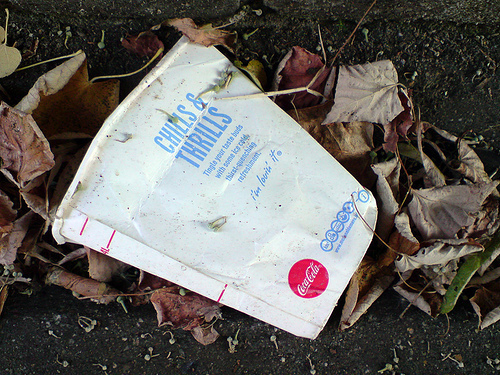litter: (50, 31, 375, 340)
